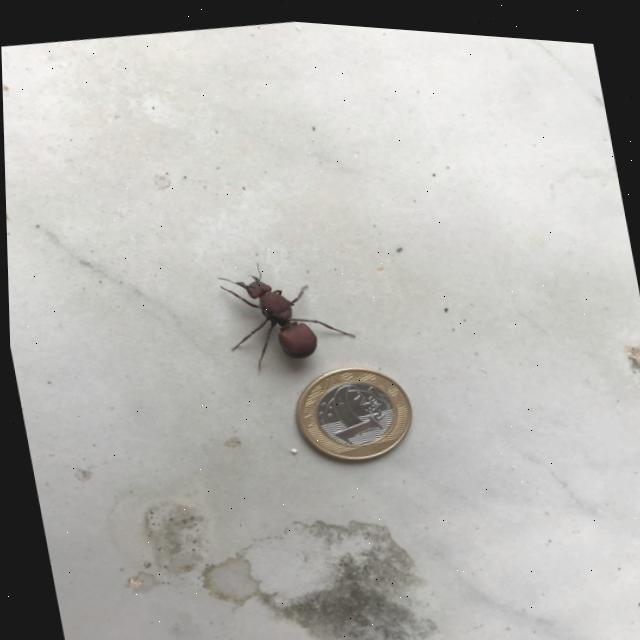Alive-Female-Dealate: (213, 243, 359, 378)
